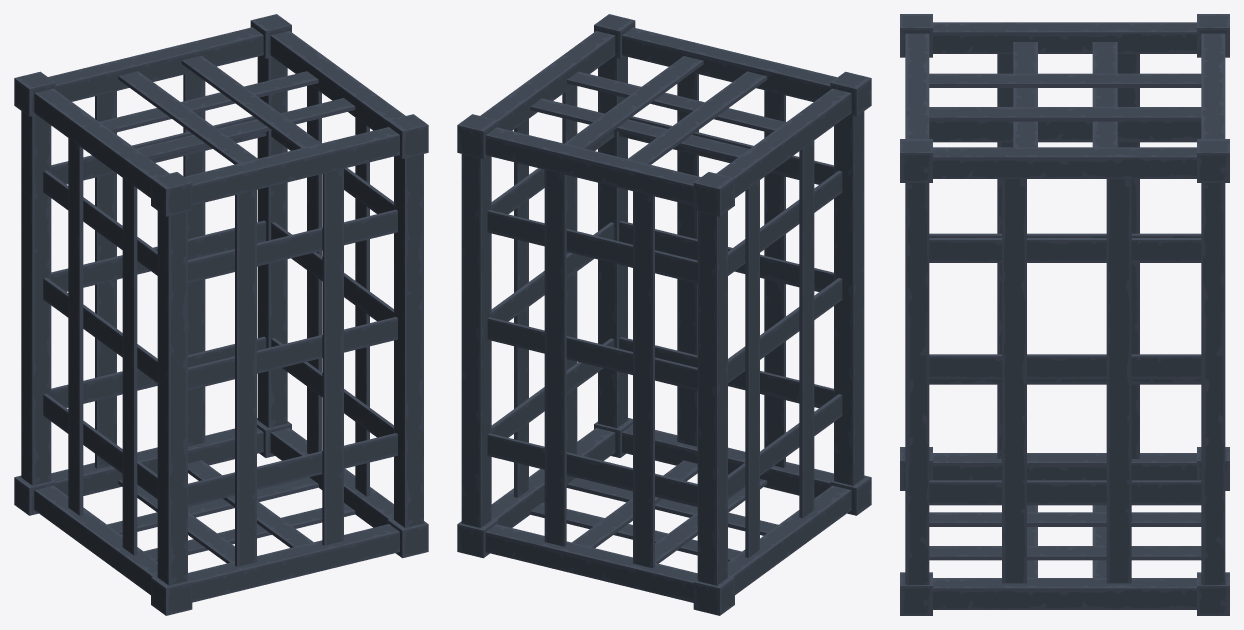
Rendered from CageLarge1.fbx.
The picture shows the model from 3 angles, left to right: view 1: azimuth 30°, elevation 25°; view 2: azimuth 150°, elevation 25°; view 3: azimuth 270°, elevation 25°; orthographic projection. The views are drawn at different scales.
Parts seen in each view (by area): view 1: CageLarge1; view 2: CageLarge1; view 3: CageLarge1.
Part boxes in pixels (x1,y1,x2,y2): CageLarge1: (14,14,428,615); CageLarge1: (457,14,871,615); CageLarge1: (900,14,1229,615).
Size of the model in its own units: 323 by 502 by 324.
